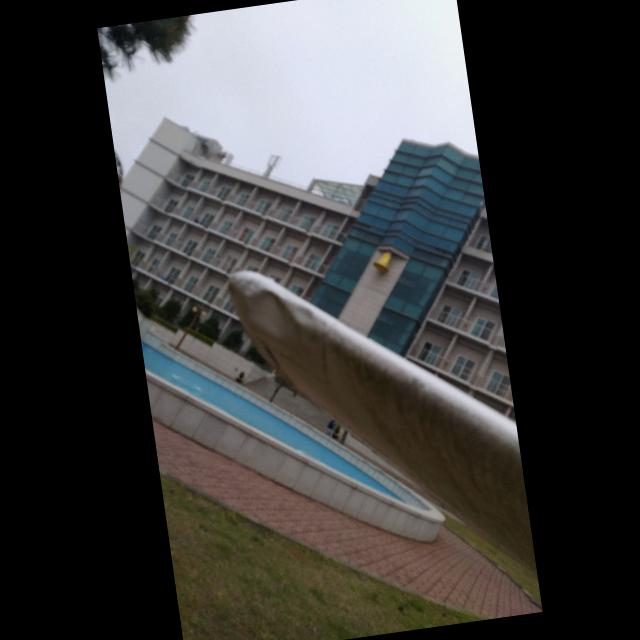dent: (237, 283, 300, 351), (288, 302, 318, 329)
